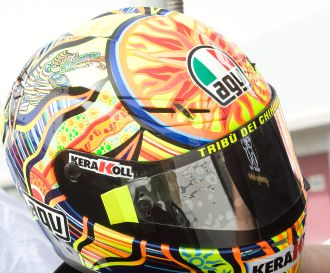helmet: (15, 22, 308, 267)
